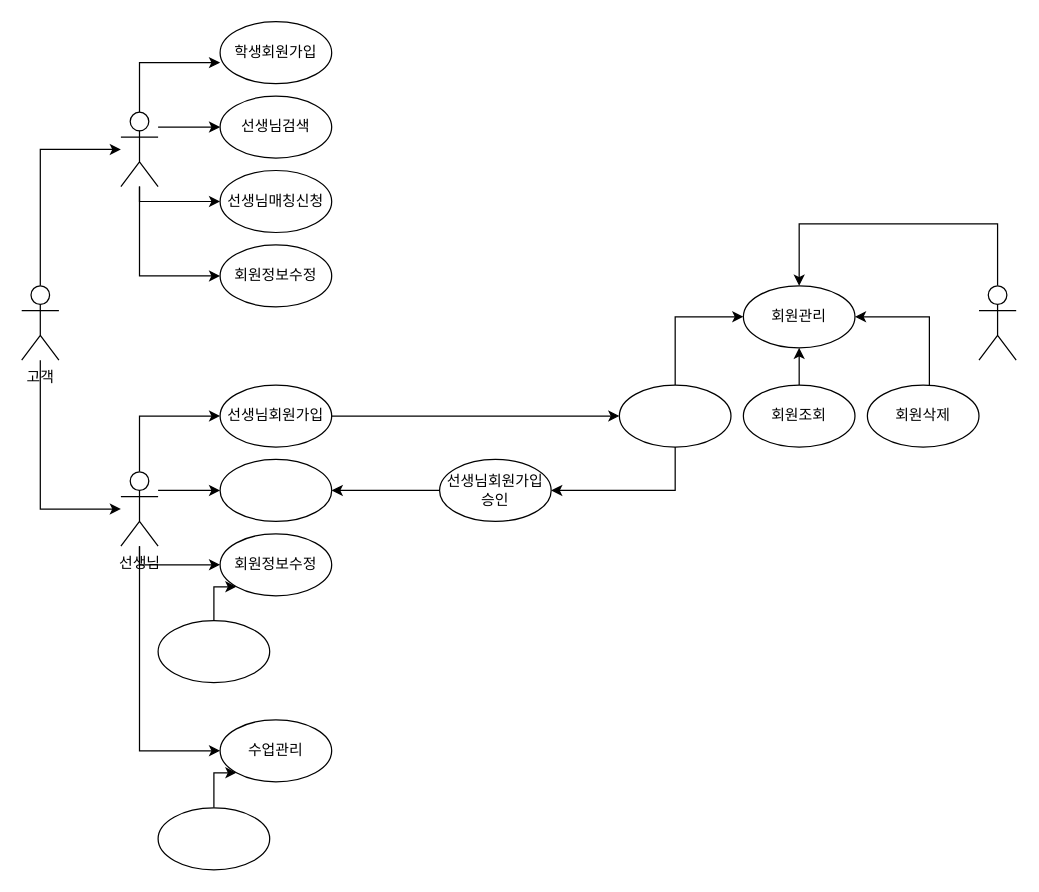
The diagram is 1039 pixels wide and 892 high, and some of its shapes have lost their labels. The centre of each missing label's shape, as x and y in pixels:
"경력증명" belongs at (x=213, y=651).
"관리자" belongs at (x=997, y=322).
"선생님가입신청확인" belongs at (x=674, y=415).
"수업등록" belongs at (x=275, y=489).
"퀴즈내기" belongs at (x=213, y=838).
"학생" belongs at (x=139, y=149).
